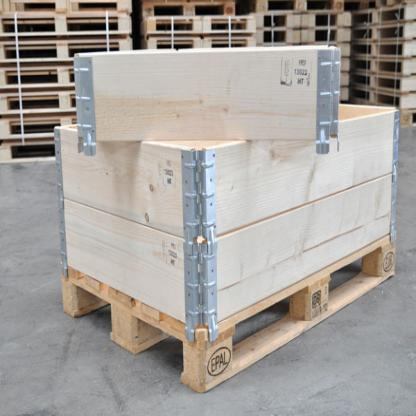BoxFace: (60, 235, 399, 393)
